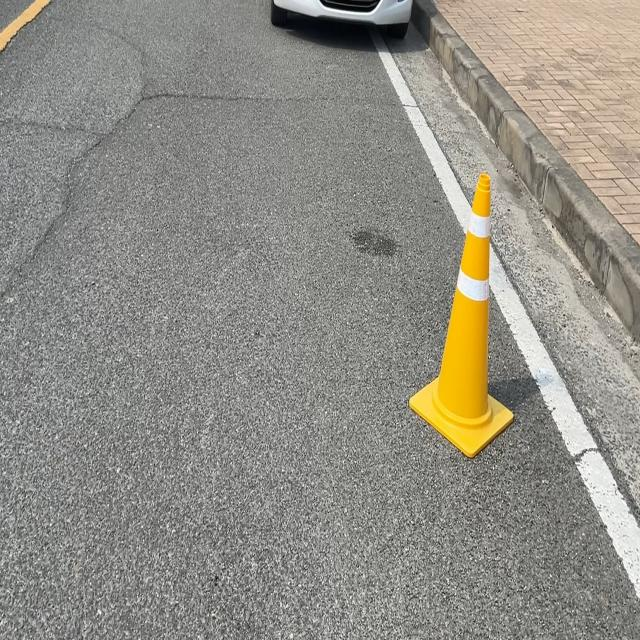y_rub: (410, 172, 514, 457)
